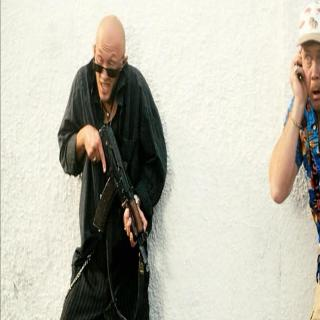gun: (87, 120, 151, 291)
